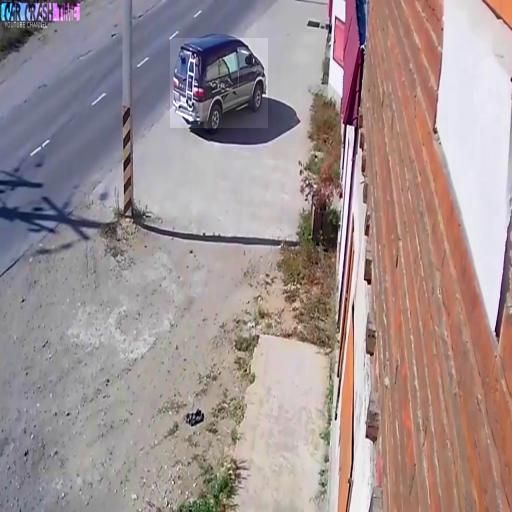小汽车: (170, 38, 268, 128)
